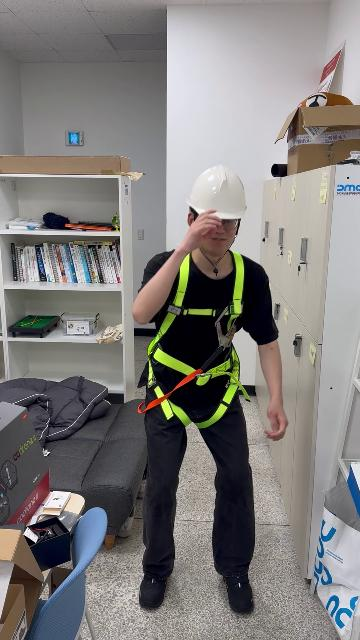helmet_worn: (185, 164, 249, 218)
shoe_worn: (223, 576, 254, 613), (138, 575, 168, 609)
vest_worn: (141, 256, 249, 423)
